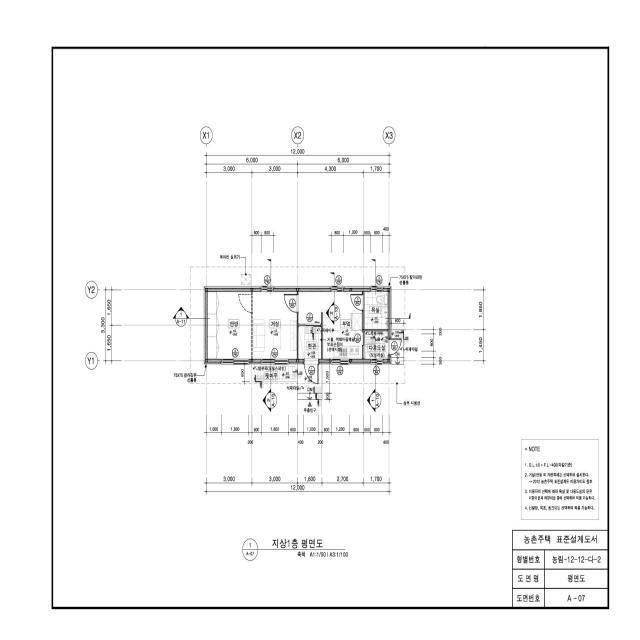space_bedroom: (205, 289, 251, 362)
space_front: (298, 327, 321, 362)
space_kitchen: (298, 288, 362, 362)
space_living_room: (253, 289, 297, 362)
space_multipurpose_space: (365, 331, 390, 362)
space_other: (252, 364, 297, 382)
space_staircase: (298, 364, 322, 399), (392, 330, 404, 364)
space_toilet: (365, 288, 390, 330)
